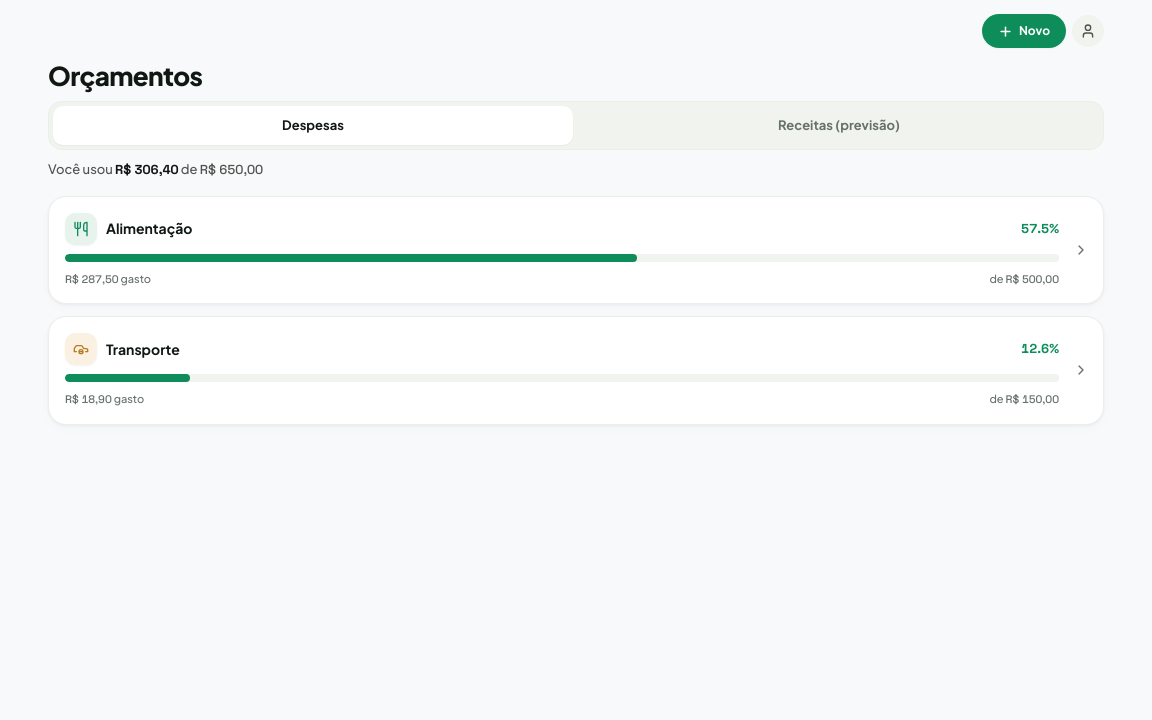
Test case: BudgetsPage › clickable cards and detail/edit sheet › clicking a budget card opens detail sheet with Editar button
Click the text "Alimentação". click: [149, 228]
box: [106,218,192,239]
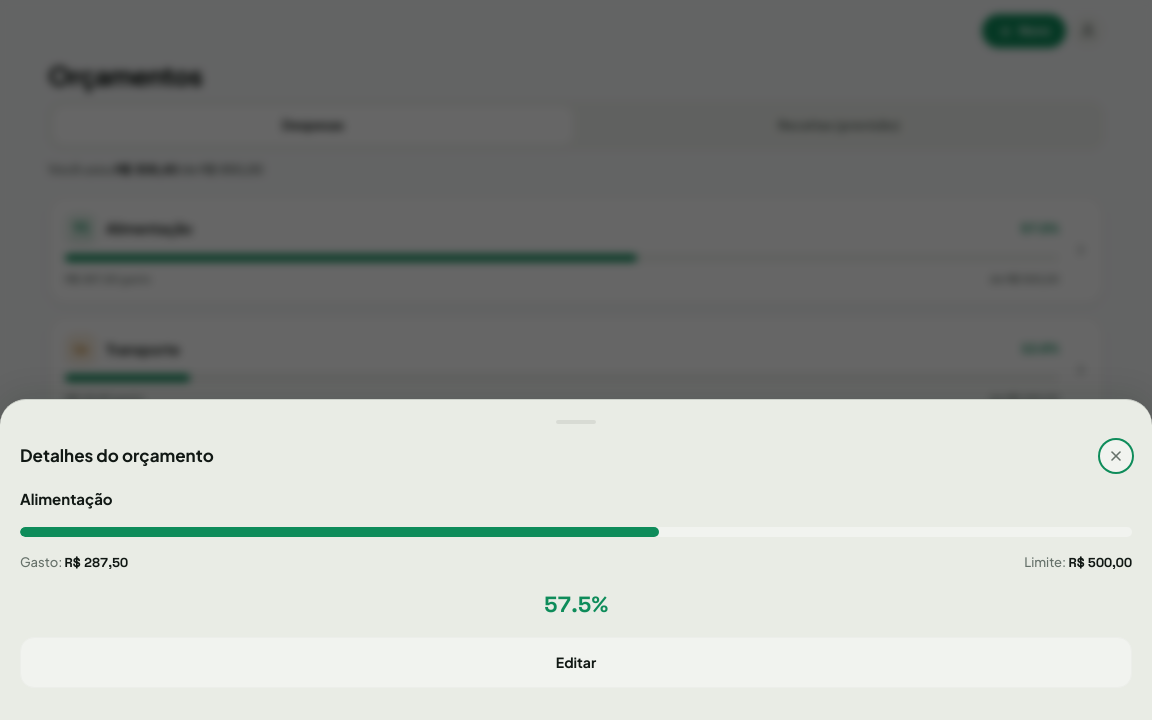
Now the button "Editar" is shown, box [20,637,1132,688]
